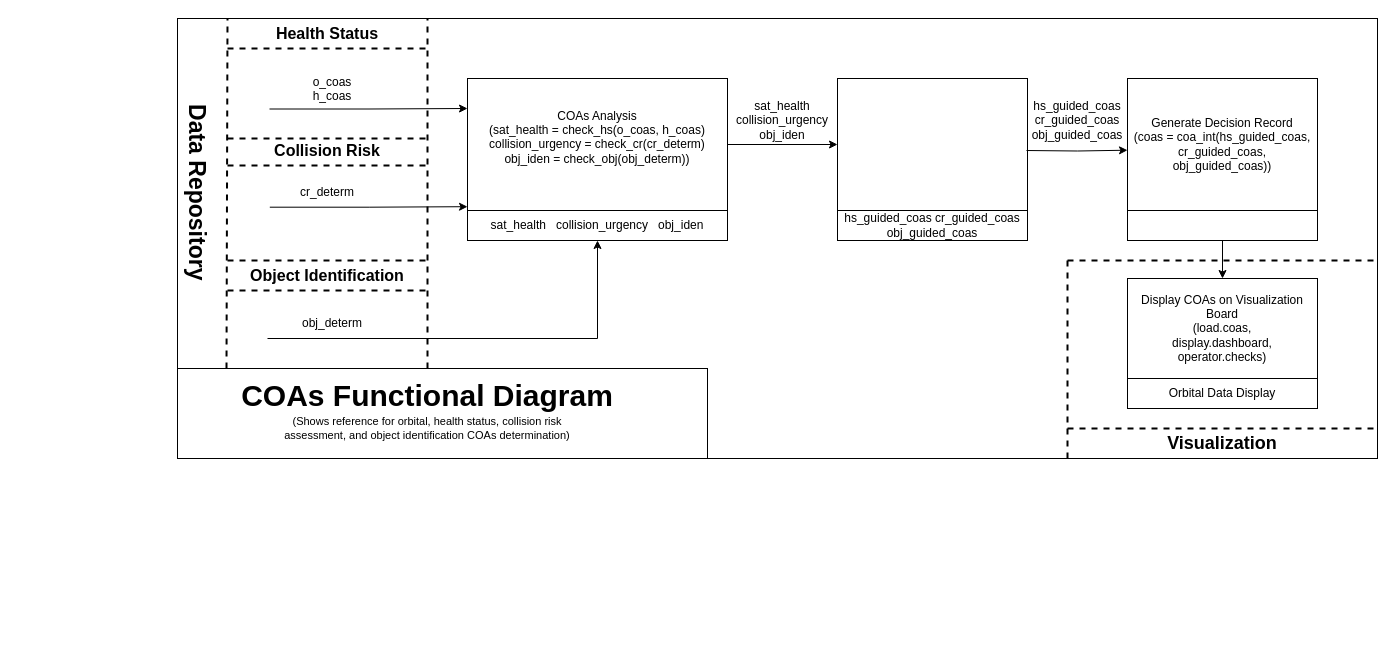
Some shapes in this 1397 by 646 pixel diagram are drawn without their labels. The centre of each missing label's shape, as x and y in pixels:
coas: the point at 1222,225
Random Forest ML ML( sat_health, collision_urgency, obj_iden ): the point at 932,144
